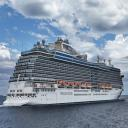cruises: (4, 37, 126, 109)
